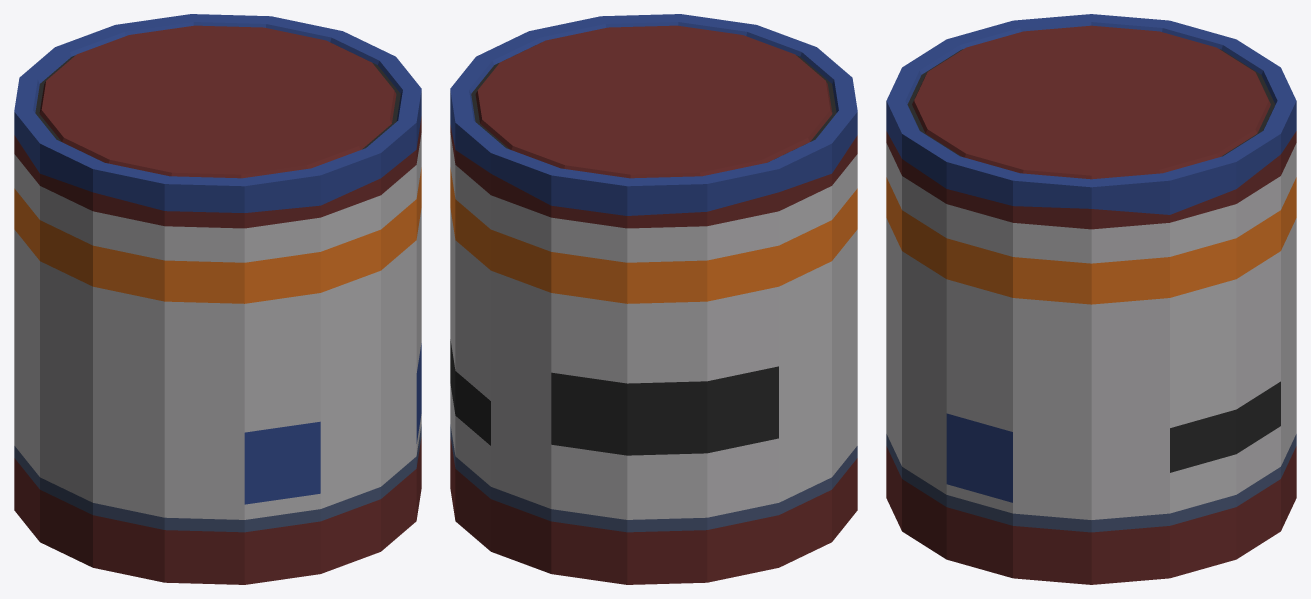
Rendered from SM_paint_bucket_3.gltf.
3 views of the same model, side by side, from view 1: azimuth 30°, elevation 25°; view 2: azimuth 150°, elevation 25°; view 3: azimuth 270°, elevation 25° (orthographic).
Visible parts, largest first — view 1: SM_paint_bucket_3; view 2: SM_paint_bucket_3; view 3: SM_paint_bucket_3.
Part boxes in pixels (bbox=[...]): SM_paint_bucket_3: bbox=[14, 14, 421, 584]; SM_paint_bucket_3: bbox=[450, 14, 857, 584]; SM_paint_bucket_3: bbox=[886, 14, 1296, 584].
Bounding box in the file's own units: 0.4485 × 0.4799 × 0.4485.
1 material, 1 textured.
